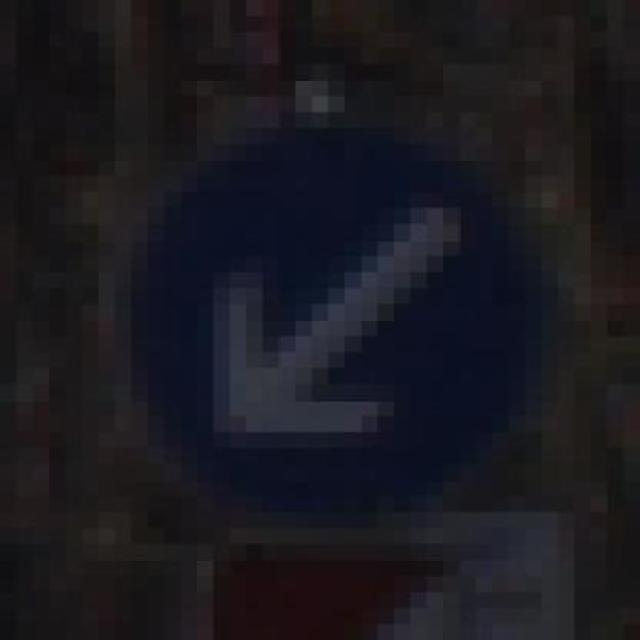Keep-Left: (82, 112, 608, 512)
